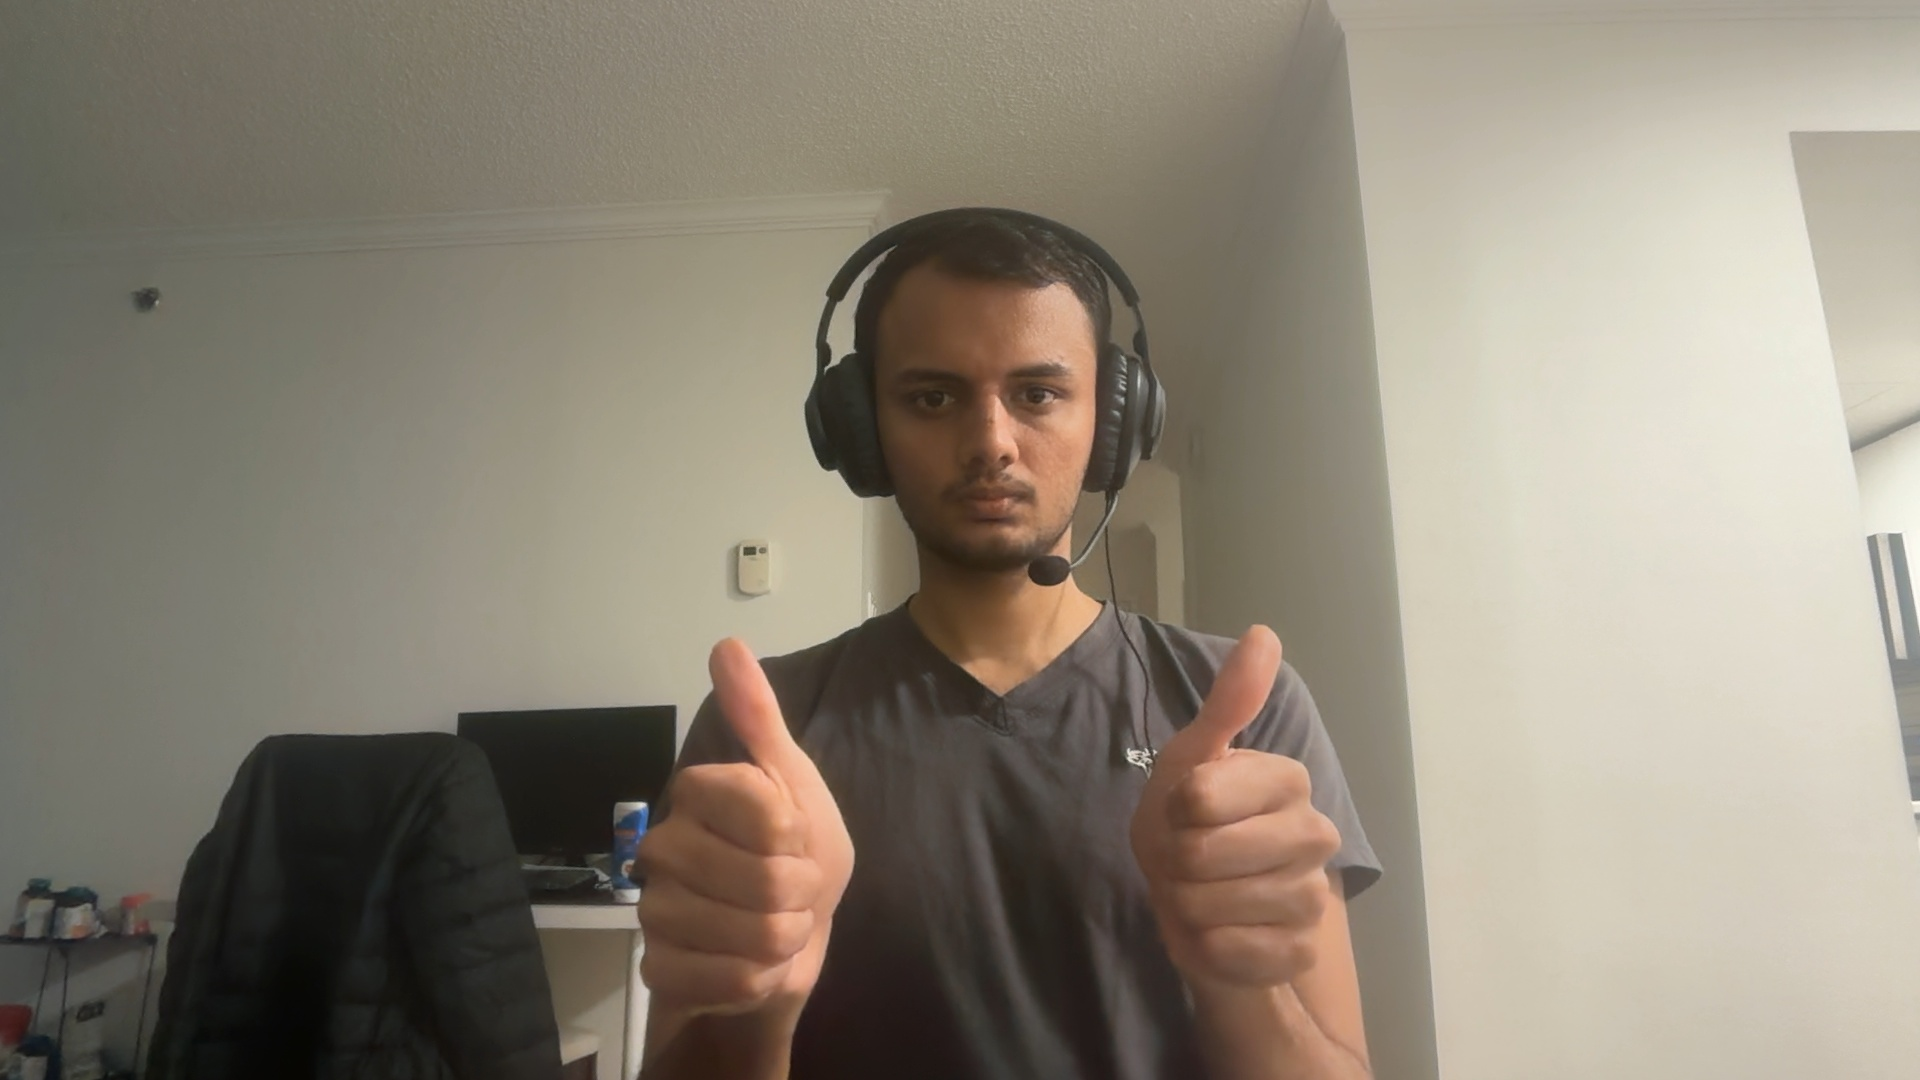thumbsup: (1130, 622, 1342, 992)
